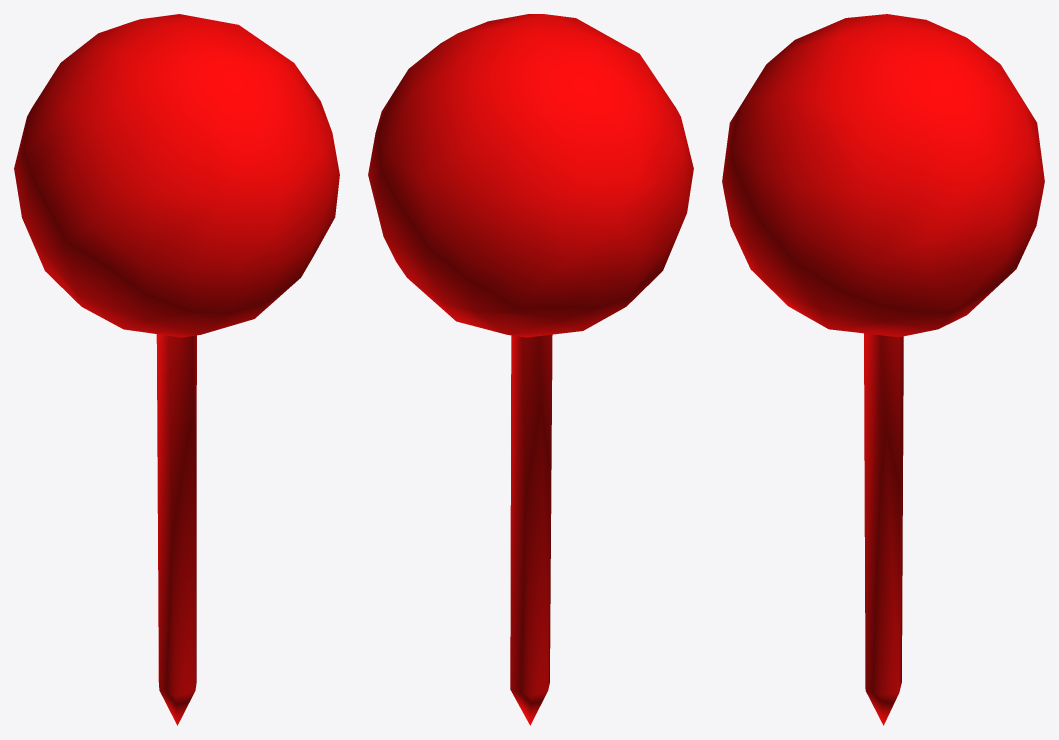
File: Nubsi.dae
3 views of the same model, side by side, from view 1: azimuth 30°, elevation 25°; view 2: azimuth 150°, elevation 25°; view 3: azimuth 270°, elevation 25° (orthographic).
Visible parts, largest first — view 1: Nubsi3; view 2: Nubsi3; view 3: Nubsi3.
Part boxes in pixels (x1,y1,x2,y2): Nubsi3: [14, 14, 339, 725]; Nubsi3: [368, 14, 693, 725]; Nubsi3: [722, 14, 1044, 725].
Bounding box in the file's own units: 0.8026 × 1.91 × 0.8025.
